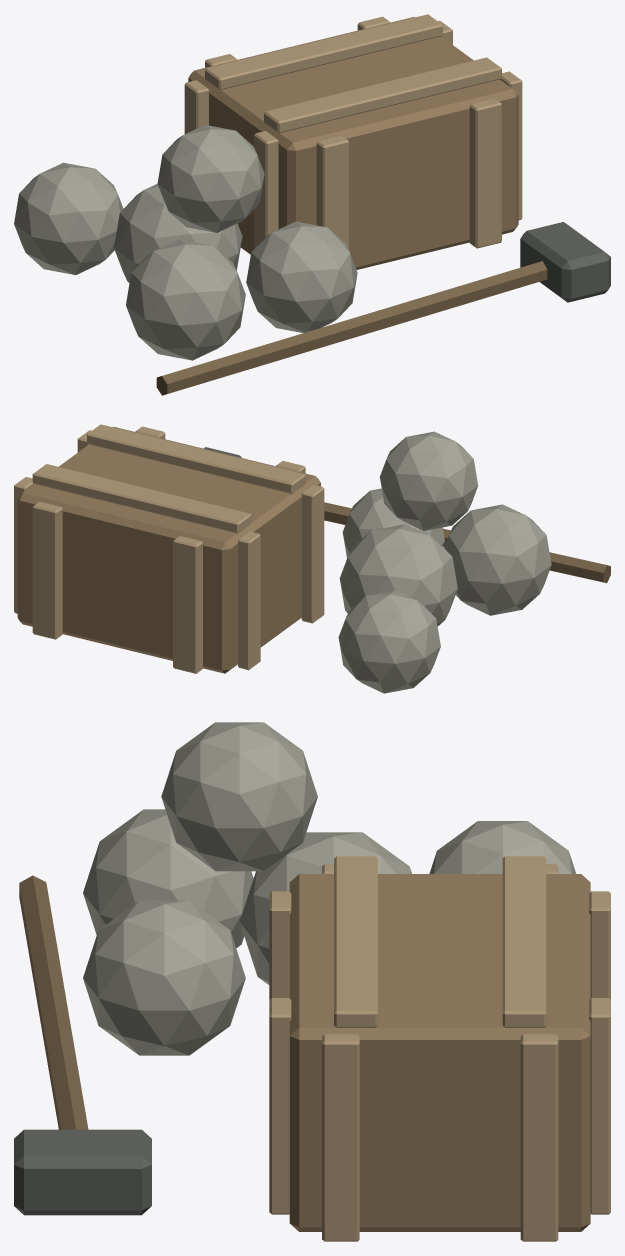
The model's file is ammunition_pile.glb.
The picture shows the model from 3 angles, top to bottom: view 1: azimuth 30°, elevation 25°; view 2: azimuth 150°, elevation 25°; view 3: azimuth 270°, elevation 25°; orthographic projection. The views are drawn at different scales.
Visible parts, largest first — view 1: ammunition_pile_camp_stone, ammunition_pile_oak, ammunition_pile_oak_light, ammunition_pile_oak_dark, ammunition_pile_camp_iron; view 2: ammunition_pile_oak, ammunition_pile_camp_stone, ammunition_pile_oak_light, ammunition_pile_oak_dark; view 3: ammunition_pile_oak, ammunition_pile_camp_stone, ammunition_pile_oak_light, ammunition_pile_camp_iron, ammunition_pile_oak_dark.
Part boxes in pixels (x1=…): ammunition_pile_camp_stone: x1=14, y1=125, x2=357, y2=360; ammunition_pile_oak: x1=188, y1=17, x2=518, y2=269; ammunition_pile_oak_light: x1=184, y1=14, x2=522, y2=250; ammunition_pile_oak_dark: x1=156, y1=261, x2=547, y2=395; ammunition_pile_camp_iron: x1=520, y1=222, x2=610, y2=302; ammunition_pile_oak: x1=17, y1=426, x2=320, y2=673; ammunition_pile_camp_stone: x1=338, y1=431, x2=551, y2=693; ammunition_pile_oak_light: x1=14, y1=424, x2=324, y2=673; ammunition_pile_oak_dark: x1=324, y1=502, x2=610, y2=583; ammunition_pile_oak: x1=289, y1=874, x2=590, y2=1231; ammunition_pile_camp_stone: x1=83, y1=722, x2=576, y2=1055; ammunition_pile_oak_light: x1=269, y1=856, x2=610, y2=1241; ammunition_pile_camp_iron: x1=14, y1=1129, x2=151, y2=1215; ammunition_pile_oak_dark: x1=19, y1=875, x2=88, y2=1129.
Bounding box in the file's own units: 1.22 × 0.495 × 0.9525.
